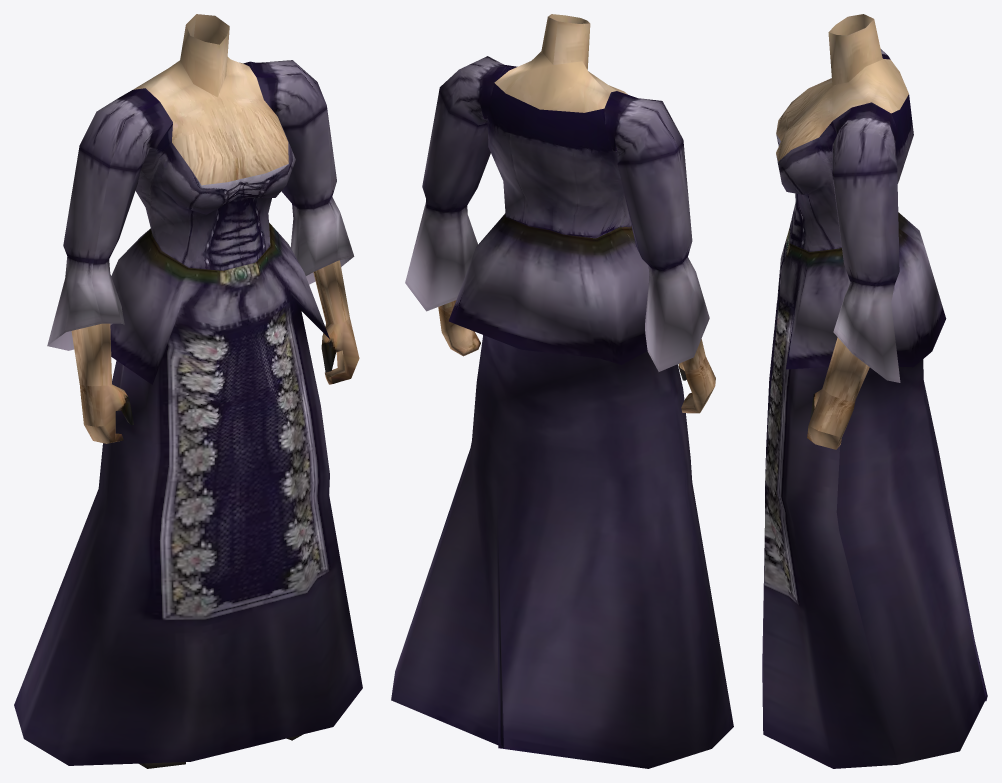
Rendered from ARMOR_BAUBABE_M3.glb.
3 renders of one model, left to right at view 1: azimuth 30°, elevation 25°; view 2: azimuth 150°, elevation 25°; view 3: azimuth 270°, elevation 25°, orthographic. The views are drawn at different scales.
Parts seen in each view (by area): view 1: ARMOR_BAUBABE_M3; view 2: ARMOR_BAUBABE_M3; view 3: ARMOR_BAUBABE_M3.
Boxes of the visible parts, <box> form: ARMOR_BAUBABE_M3: <box>14,14,362,768</box>; ARMOR_BAUBABE_M3: <box>391,14,733,768</box>; ARMOR_BAUBABE_M3: <box>762,14,987,768</box>.
Bounding box in the file's own units: 0.77 × 1.65 × 0.4842.
2 materials, 2 textured.
